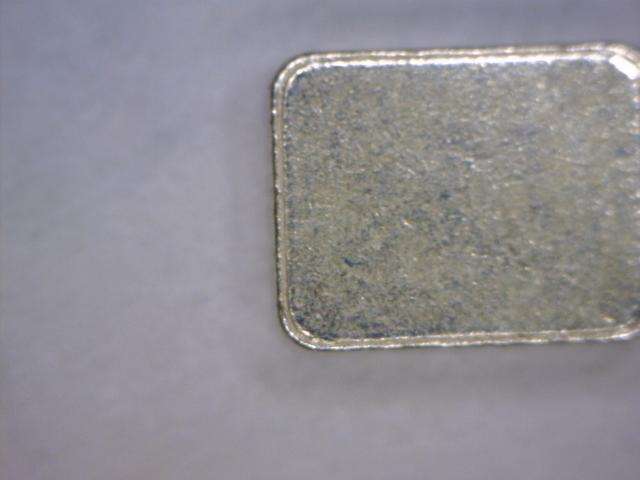nok: (262, 41, 640, 356)
